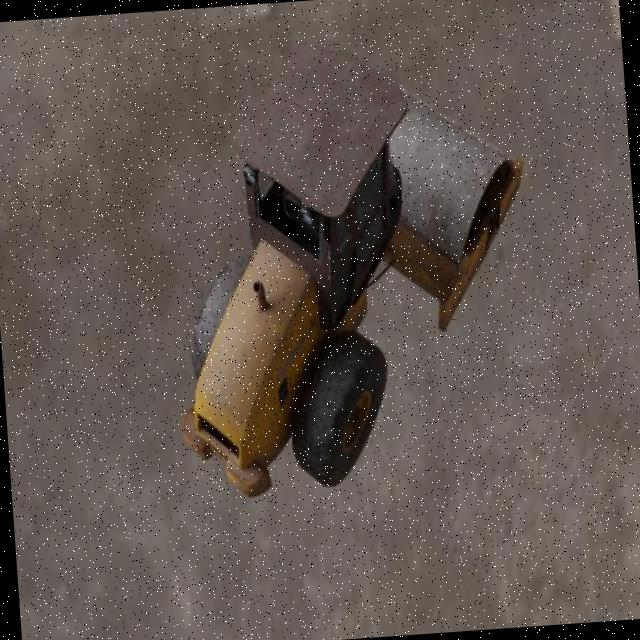Roller: (153, 21, 544, 502)
